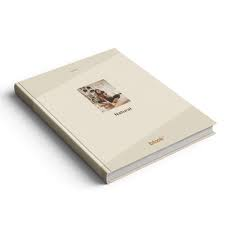book: (13, 45, 217, 185)
